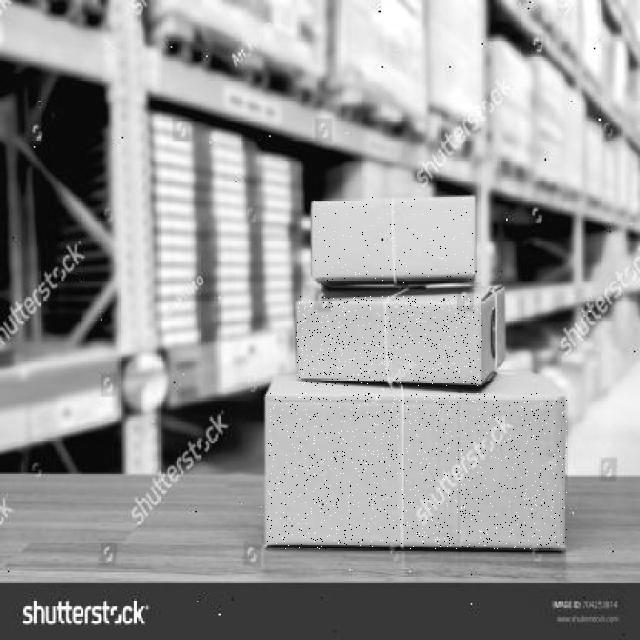BoxFace: (268, 394, 568, 550), (296, 296, 482, 387), (314, 197, 474, 283)
